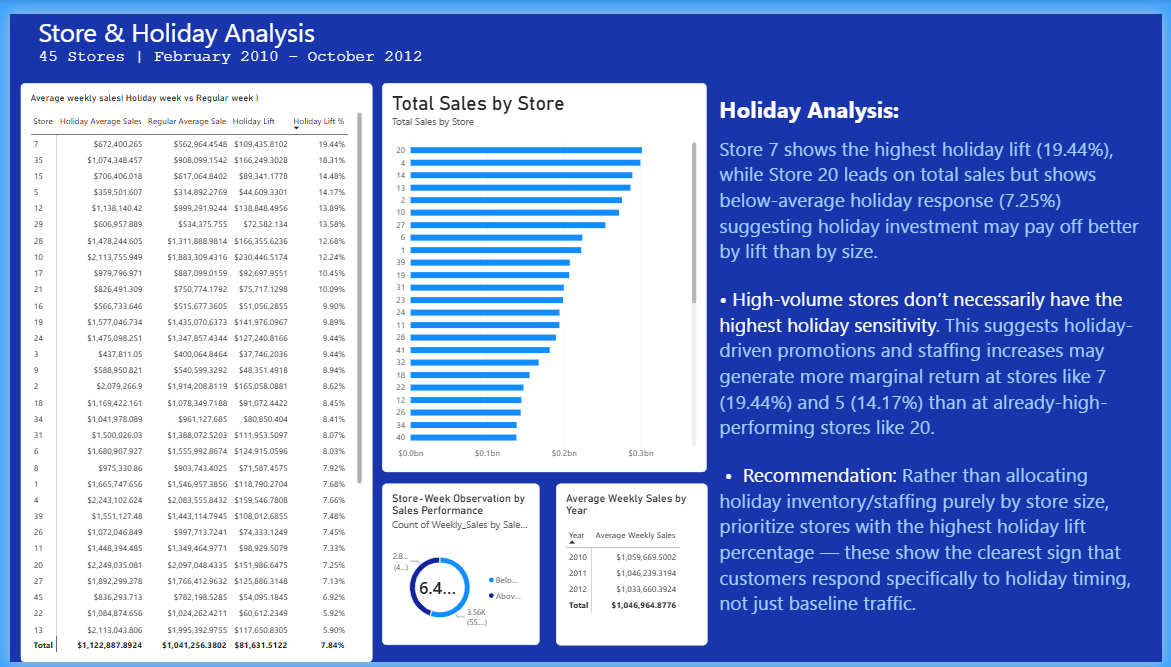

This screenshot's page, from the dashboard's own definition file:
{"tool":"powerbi","page":{"name":"Store & Holiday Analysis","canvas":[1920,1080],"ordinal":1},"visuals":[{"type":"donutChart","title":"Store-Week Observation by Sales Performance","fields":{"Category":["Cleaned-walmart-sales-dataset-of-45stores.Sales Performance"],"Y":["CountNonNull(Cleaned-walmart-sales-dataset-of-45stores.Weekly_Sales)"]},"box":[1440,161.6,447.9,272.1],"z":4},{"type":"pivotTable","title":"Average weekly sales( Holiday week vs Regular week )","fields":{"Rows":["Cleaned-walmart-sales-dataset-of-45stores.Store"],"Values":["Cleaned-walmart-sales-dataset-of-45stores.Holiday Average Sales","Cleaned-walmart-sales-dataset-of-45stores.Regular Average Sale","Cleaned-walmart-sales-dataset-of-45stores.Holiday Lift","Cleaned-walmart-sales-dataset-of-45stores.Holiday Lift %"]},"box":[0,161.6,629.3,918.4],"z":5},{"type":"clusteredColumnChart","fields":{"Category":["Cleaned-walmart-sales-dataset-of-45stores.Year"],"Y":["Cleaned-walmart-sales-dataset-of-45stores.TotalSales"]},"box":[1051.7,666.1,290.4,304.7],"z":6},{"type":"pivotTable","title":"Average Weekly Sales by Year","fields":{"Rows":["Cleaned-walmart-sales-dataset-of-45stores.Year"],"Values":["Cleaned-walmart-sales-dataset-of-45stores.AverageWeeklySales"]},"box":[1440,470.6,221.1,269.3],"z":7},{"type":"clusteredBarChart","title":"Total Sales by Store","fields":{"Category":["Cleaned-walmart-sales-dataset-of-45stores.Store"],"Y":["Cleaned-walmart-sales-dataset-of-45stores.TotalSales"]},"box":[653.7,162.2,746.8,918.6],"z":8},{"type":"textbox","box":[652.5,0,787.5,867.5],"z":9},{"type":"slicer","fields":{"Values":["Cleaned-walmart-sales-dataset-of-45stores.Holiday Type"]},"box":[1698,470.6,221.1,124.7],"z":11},{"type":"slicer","title":"Store","fields":{"Values":["Cleaned-walmart-sales-dataset-of-45stores.Store"]},"box":[1400.3,782.4,518.7,263.6],"z":12},{"type":"slicer","fields":{"Values":["Date Table.Year"]},"box":[1696.6,576,151.1,162.5],"z":13}]}

Visuals, with their boxes in screenshot pixels (x1, y1, x2, y2), scaled from the page's 1920x1080 canvas onto the 1171x667 screenshot:
"Store-Week Observation by Sales Performance" donutChart: detection(878, 100, 1151, 268)
"Average weekly sales( Holiday week vs Regular week )" pivotTable: detection(0, 100, 384, 666)
clusteredColumnChart - Cleaned-walmart-sales-dataset-of-45stores.Year x Cleaned-walmart-sales-dataset-of-45stores.TotalSales: detection(641, 411, 819, 600)
"Average Weekly Sales by Year" pivotTable: detection(878, 291, 1013, 457)
"Total Sales by Store" clusteredBarChart: detection(399, 100, 854, 666)
textbox: detection(398, 0, 878, 536)
slicer - Cleaned-walmart-sales-dataset-of-45stores.Holiday Type: detection(1036, 291, 1170, 368)
"Store" slicer: detection(854, 483, 1170, 646)
slicer - Date Table.Year: detection(1035, 356, 1127, 456)
